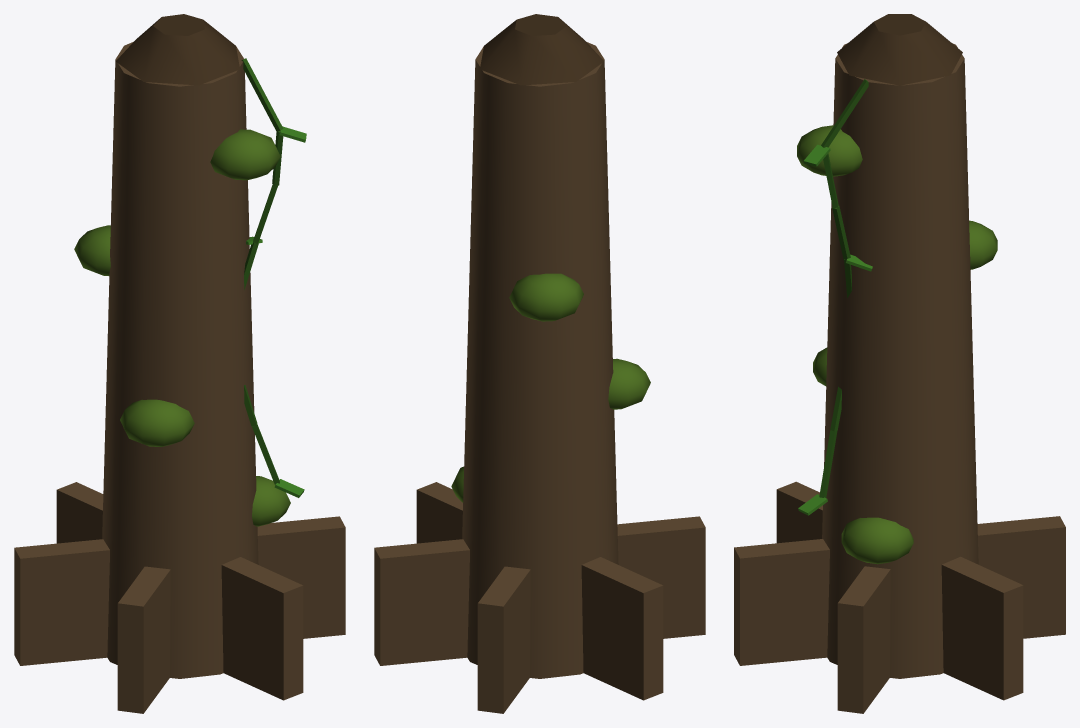
File: jt_tree_trunk.glb
3 views of the same model, side by side, from view 1: azimuth 30°, elevation 25°; view 2: azimuth 150°, elevation 25°; view 3: azimuth 270°, elevation 25° (orthographic).
Visible parts, largest first — view 1: jt_tree_trunk; view 2: jt_tree_trunk; view 3: jt_tree_trunk.
Part boxes in pixels (left/top/right/bottom): jt_tree_trunk: left=14, top=14, right=345, bottom=713; jt_tree_trunk: left=374, top=14, right=705, bottom=713; jt_tree_trunk: left=734, top=14, right=1065, bottom=713.
Size of the model in its own units: 3.04 by 6.35 by 3.08.
